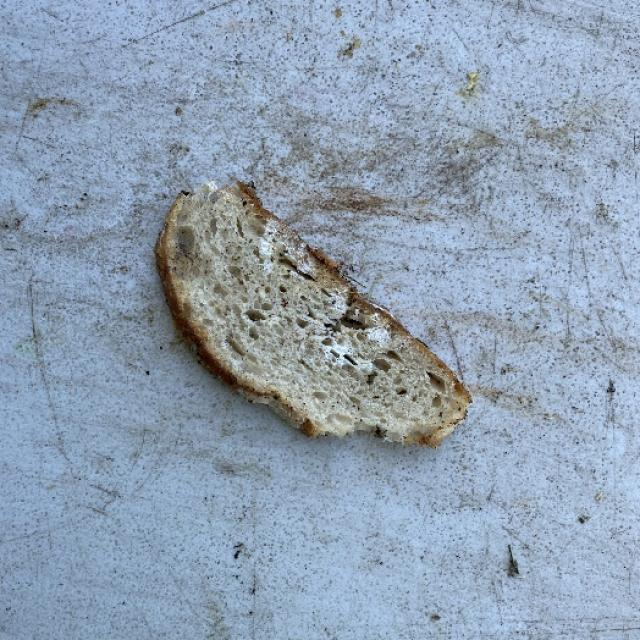organik: (148, 179, 475, 459)
